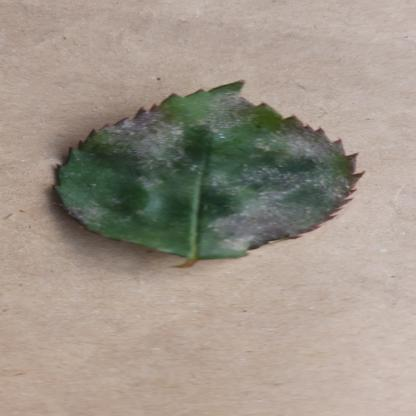powdery-mildew: (50, 78, 364, 262)
